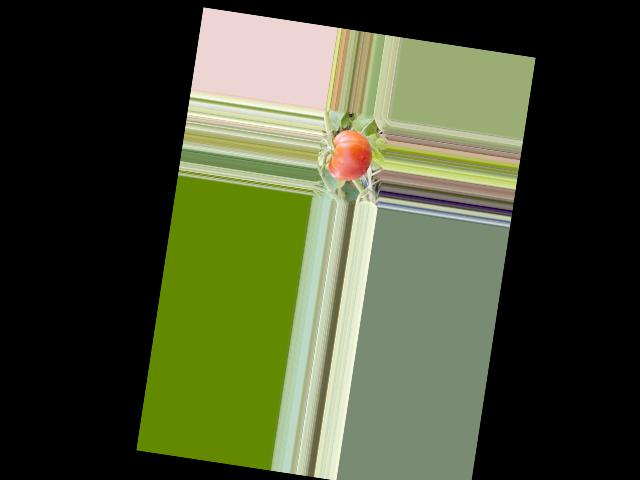tomato: (326, 128, 375, 184)
